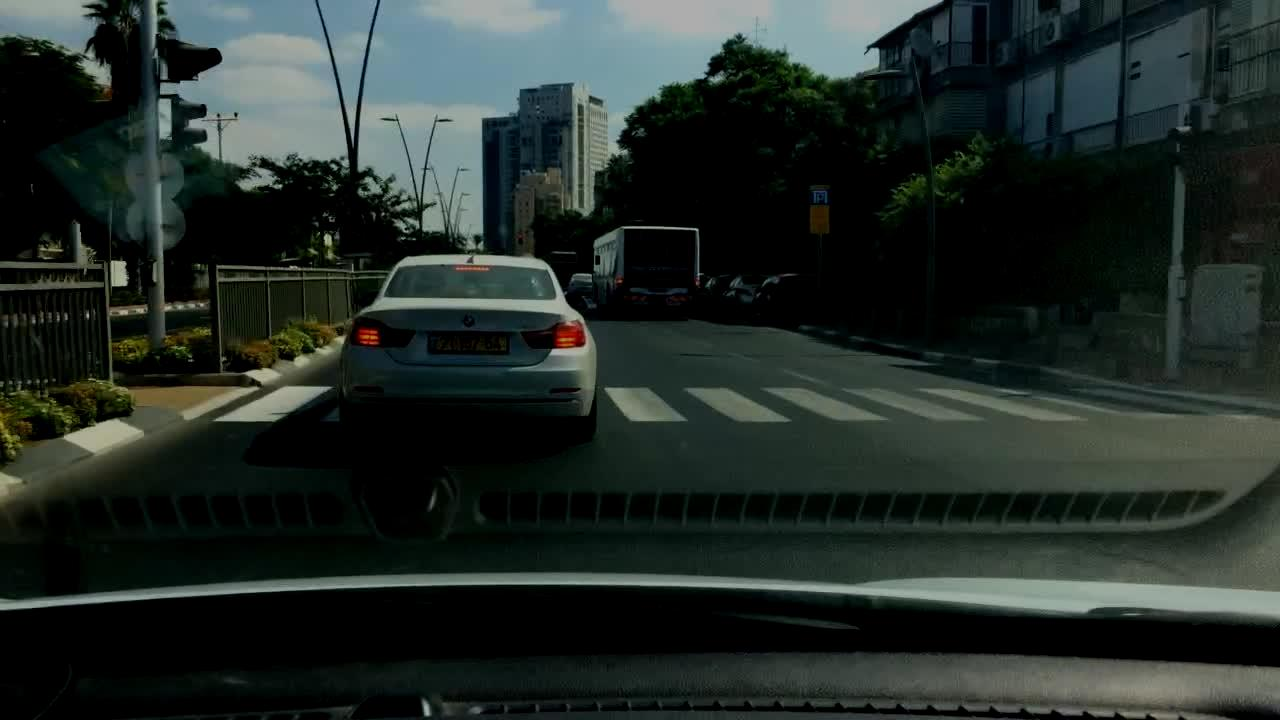bmw: (458, 310, 480, 333)
